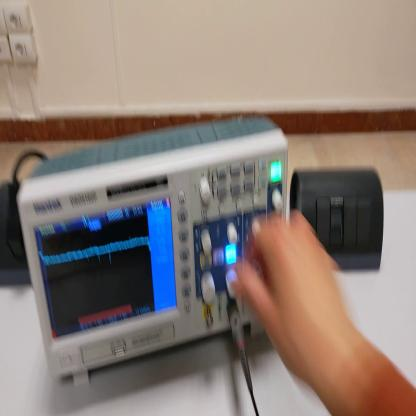hand: (232, 211, 350, 387)
oscilloscope: (14, 111, 291, 382)
socket: (1, 180, 32, 287)
